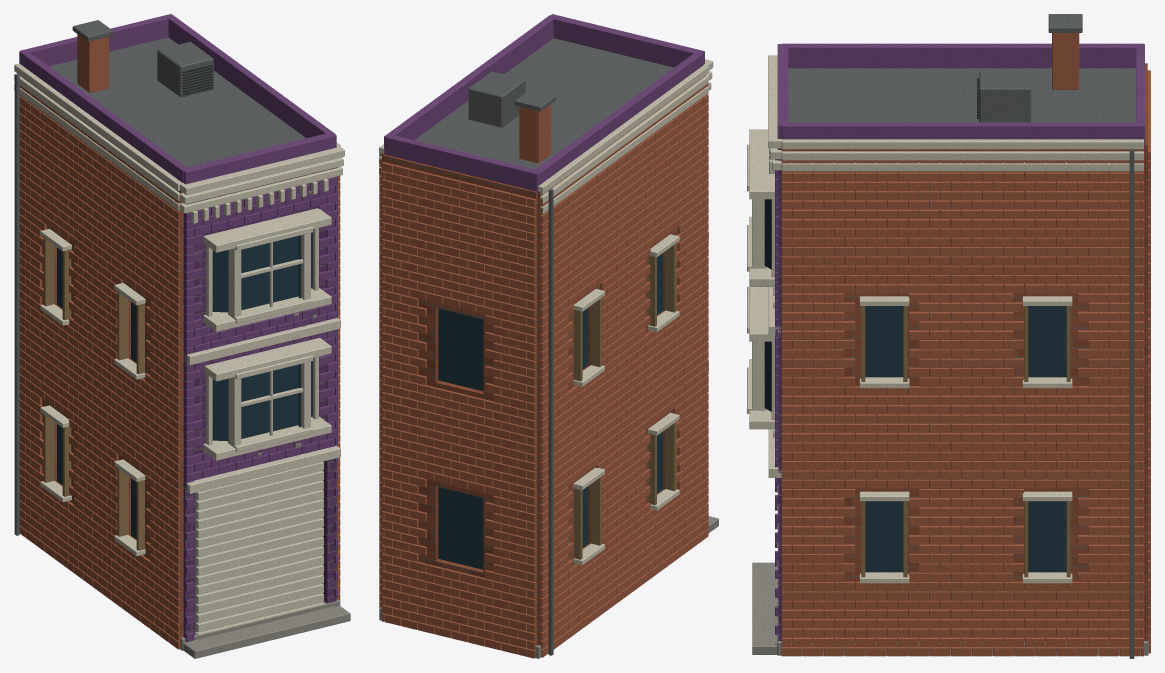
Rendered from VICT3B_lod0.glb.
3 renders of one model, left to right at view 1: azimuth 30°, elevation 25°; view 2: azimuth 150°, elevation 25°; view 3: azimuth 270°, elevation 25°, orthographic. The views are drawn at different scales.
Visible parts, largest first — view 1: VICT3B_LOD0; view 2: VICT3B_LOD0; view 3: VICT3B_LOD0.
Boxes of the visible parts, x1,y1,x2,y2 form: VICT3B_LOD0: [14, 14, 350, 658]; VICT3B_LOD0: [379, 14, 718, 658]; VICT3B_LOD0: [747, 14, 1150, 658].
Bounding box in the file's own units: 3.71 × 10.45 × 6.69.
Materials: 15 (13 with a texture image).
